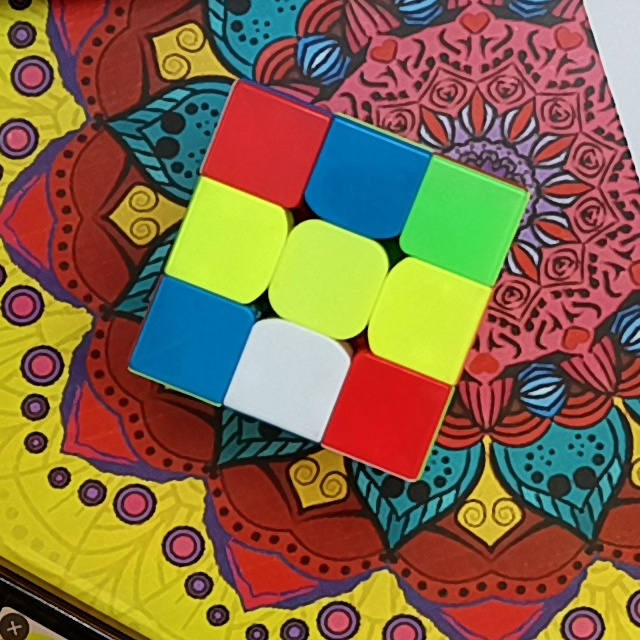tile: (194, 204, 268, 279), (351, 376, 424, 452), (389, 281, 463, 354), (425, 185, 501, 256), (294, 241, 366, 315), (156, 305, 231, 375), (251, 341, 327, 410), (326, 149, 400, 219), (229, 111, 301, 181)
